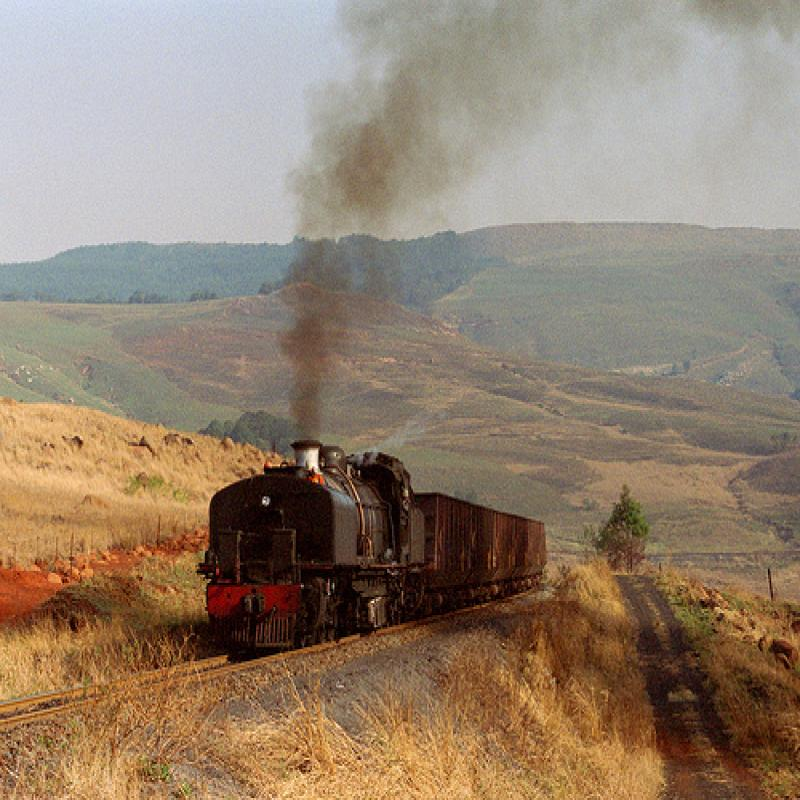train: (200, 440, 552, 665)
